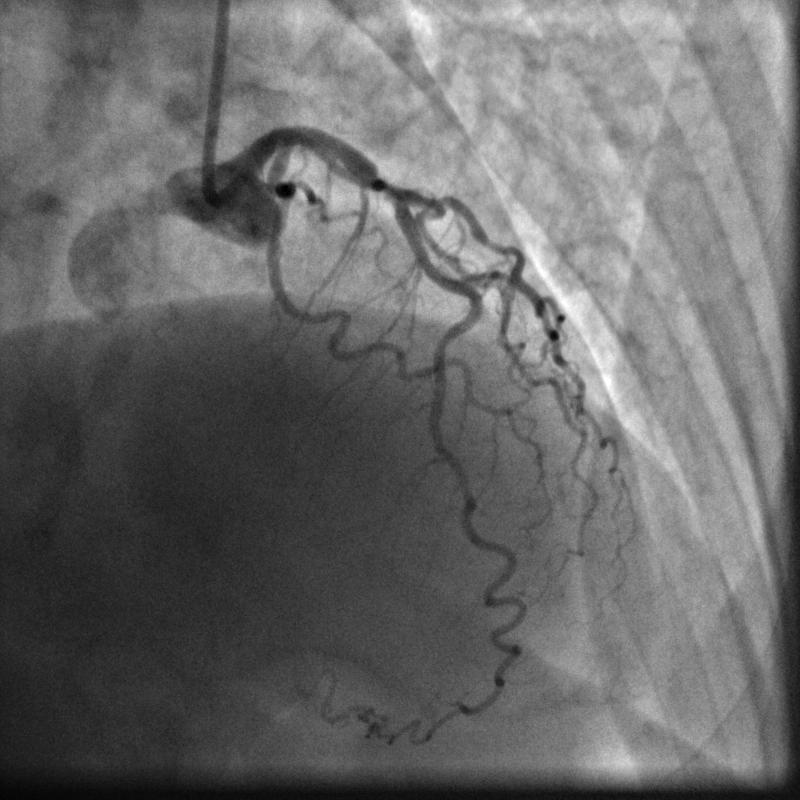Stenosis: (376, 166, 397, 200)
